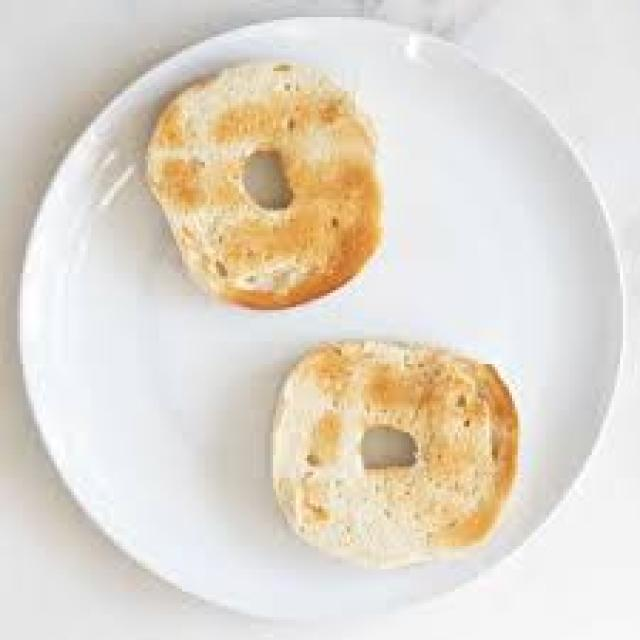Bagel: (146, 65, 378, 308), (278, 344, 518, 565)
